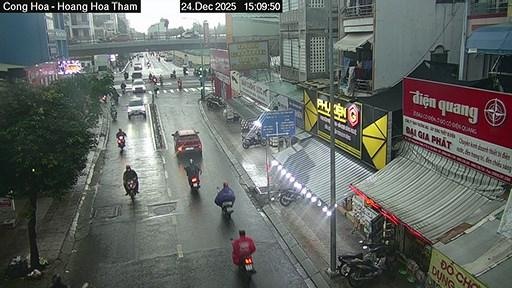motorbike: (346, 243, 393, 286), (336, 239, 387, 275), (346, 257, 387, 287), (278, 189, 303, 206), (239, 256, 255, 278), (243, 133, 265, 148), (125, 180, 137, 201), (205, 95, 224, 107), (221, 202, 233, 219), (188, 175, 198, 190), (118, 135, 124, 148), (109, 109, 115, 120), (169, 70, 176, 77), (182, 67, 188, 75), (176, 81, 181, 90), (101, 94, 105, 102), (121, 86, 124, 94), (124, 72, 127, 79), (160, 77, 162, 85)
